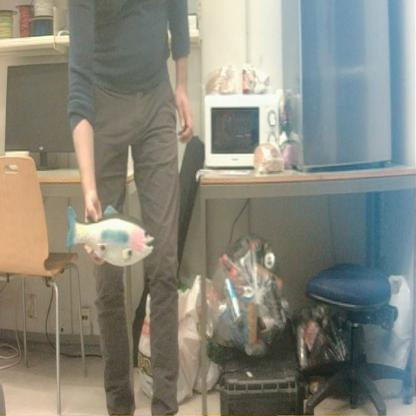rubberfish: (64, 198, 156, 270)
